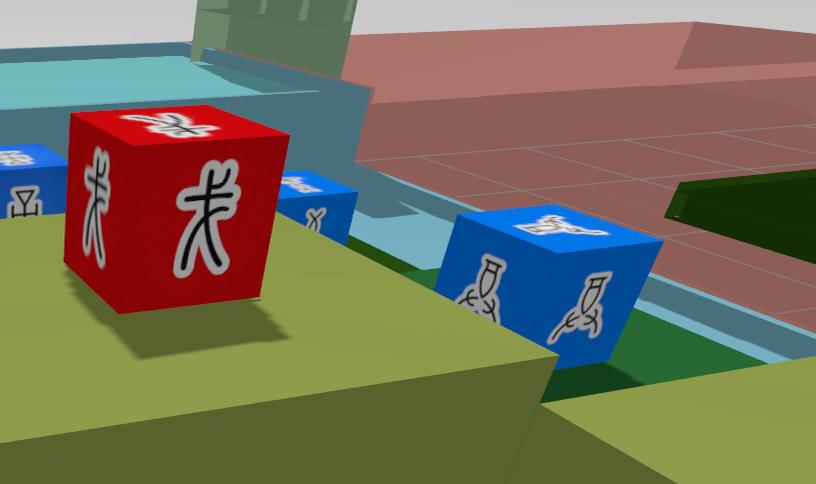KFS_FAKE: (63, 104, 289, 313), (173, 159, 241, 277), (82, 148, 110, 267), (121, 112, 217, 137)
KFS_REAL: (434, 203, 662, 366), (280, 171, 357, 243), (0, 145, 67, 219), (546, 272, 612, 344), (454, 254, 506, 322), (516, 214, 609, 234)
